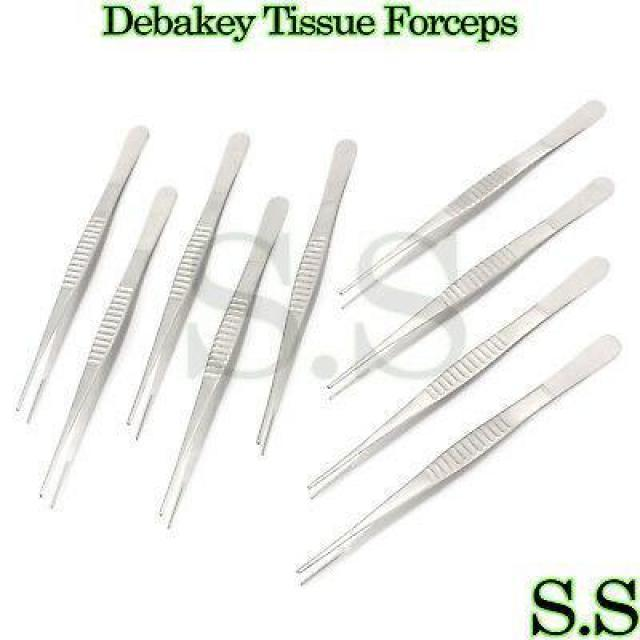Forceps: (293, 332, 624, 590), (302, 254, 616, 504), (322, 173, 618, 405), (331, 96, 610, 312), (34, 185, 180, 512), (156, 192, 292, 533), (10, 120, 156, 427), (123, 130, 254, 444), (250, 133, 362, 456)
